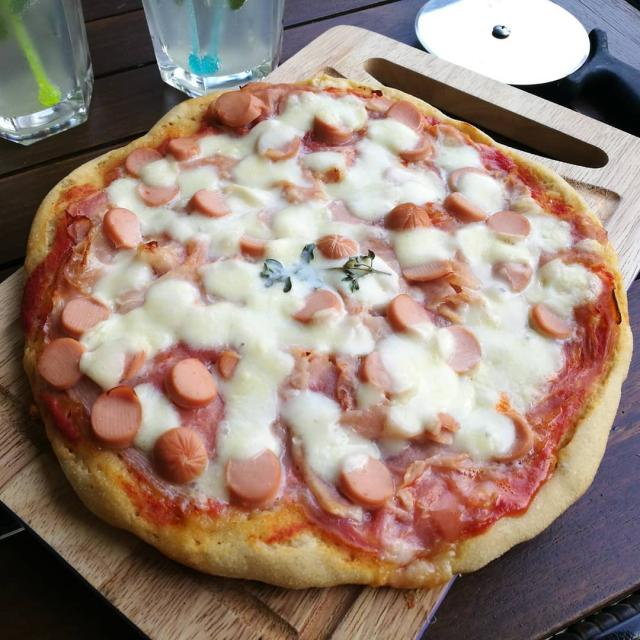basil: (251, 239, 390, 296)
pizza: (21, 77, 632, 588)
